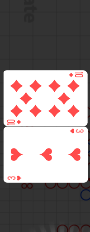10D: (68, 71, 85, 78)
3H: (7, 174, 23, 181)
